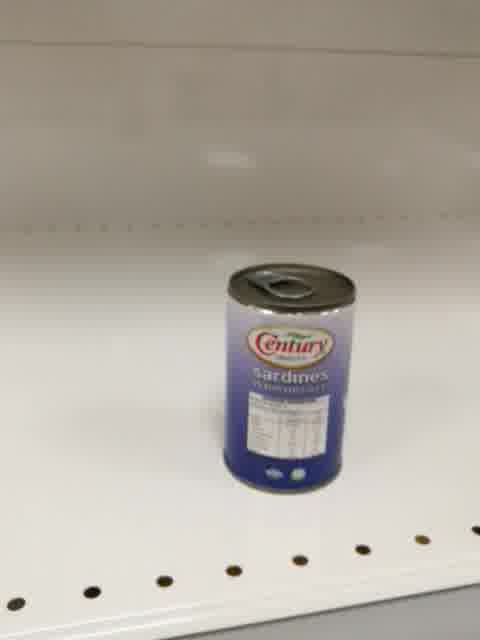sardine: (223, 263, 357, 495)
